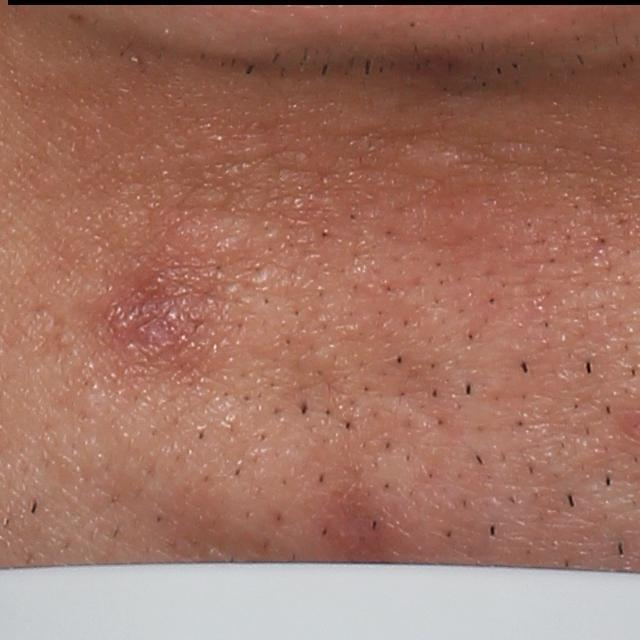hypertrophic_scar: (165, 211, 263, 259), (390, 142, 463, 181)
